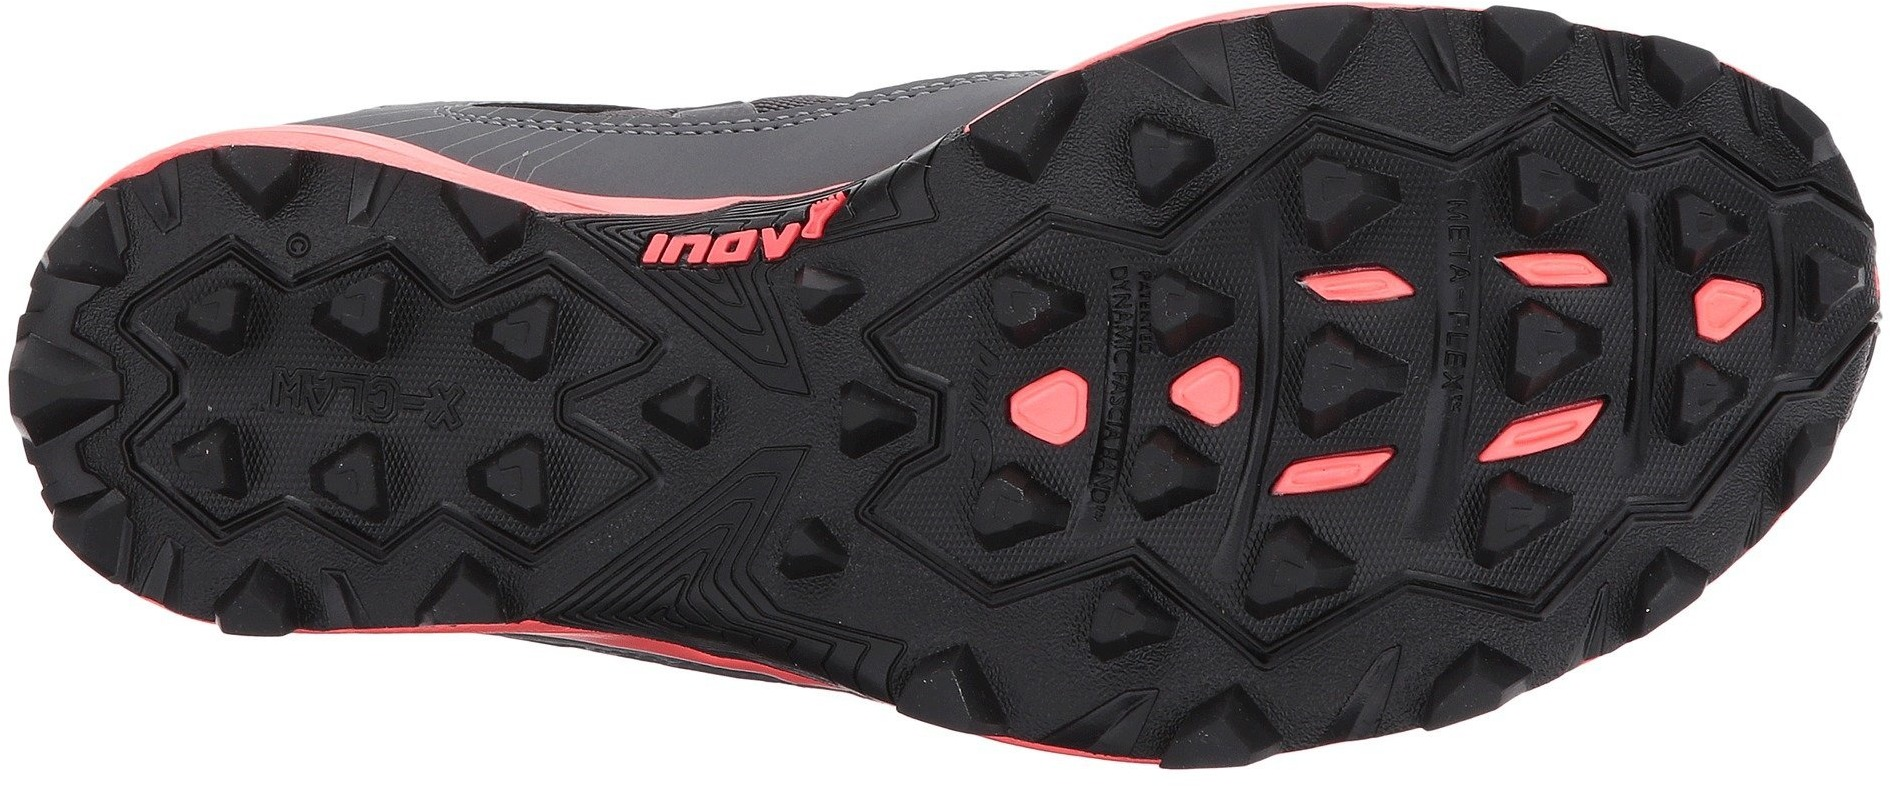chevron: (1620, 473, 1725, 556), (1463, 563, 1572, 643)
circle: (272, 216, 322, 266)
polygon: (990, 365, 1100, 454), (1158, 350, 1256, 438)
quad: (1404, 647, 1542, 762), (1492, 231, 1624, 303)
text: (628, 218, 742, 282), (1093, 247, 1157, 351), (260, 353, 337, 432), (325, 359, 405, 435), (399, 375, 474, 445), (272, 216, 322, 266)
triangle: (1057, 568, 1209, 679), (1285, 143, 1427, 262), (1098, 108, 1232, 210), (1475, 2, 1604, 98), (621, 359, 740, 454), (990, 365, 1100, 454), (1158, 350, 1256, 438)
